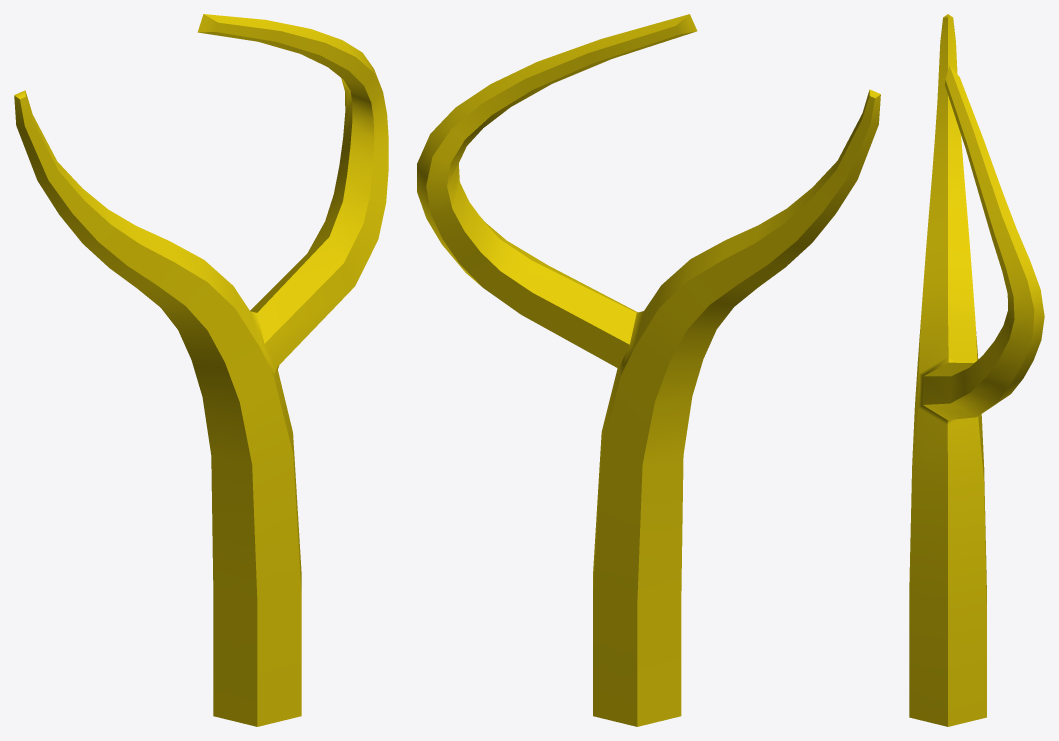
The model's file is deadTreeSmall.fbx.
3 renders of one model, left to right at view 1: azimuth 30°, elevation 25°; view 2: azimuth 150°, elevation 25°; view 3: azimuth 270°, elevation 25°, orthographic. The views are drawn at different scales.
Parts seen in each view (by area): view 1: tree2; view 2: tree2; view 3: tree2.
Boxes of the visible parts, x1,y1,x2,y2 form: tree2: (14,14,388,726); tree2: (417,14,880,726); tree2: (909,14,1044,726).
Bounding box in the file's own units: 1.74 × 2.81 × 0.5568.
